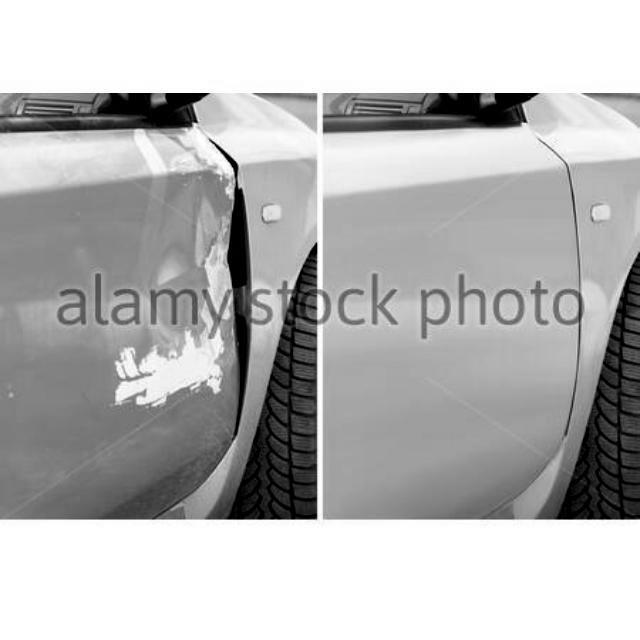doorouter-dent: (9, 133, 239, 521)
